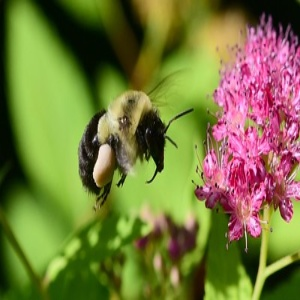bee: (77, 65, 195, 211)
